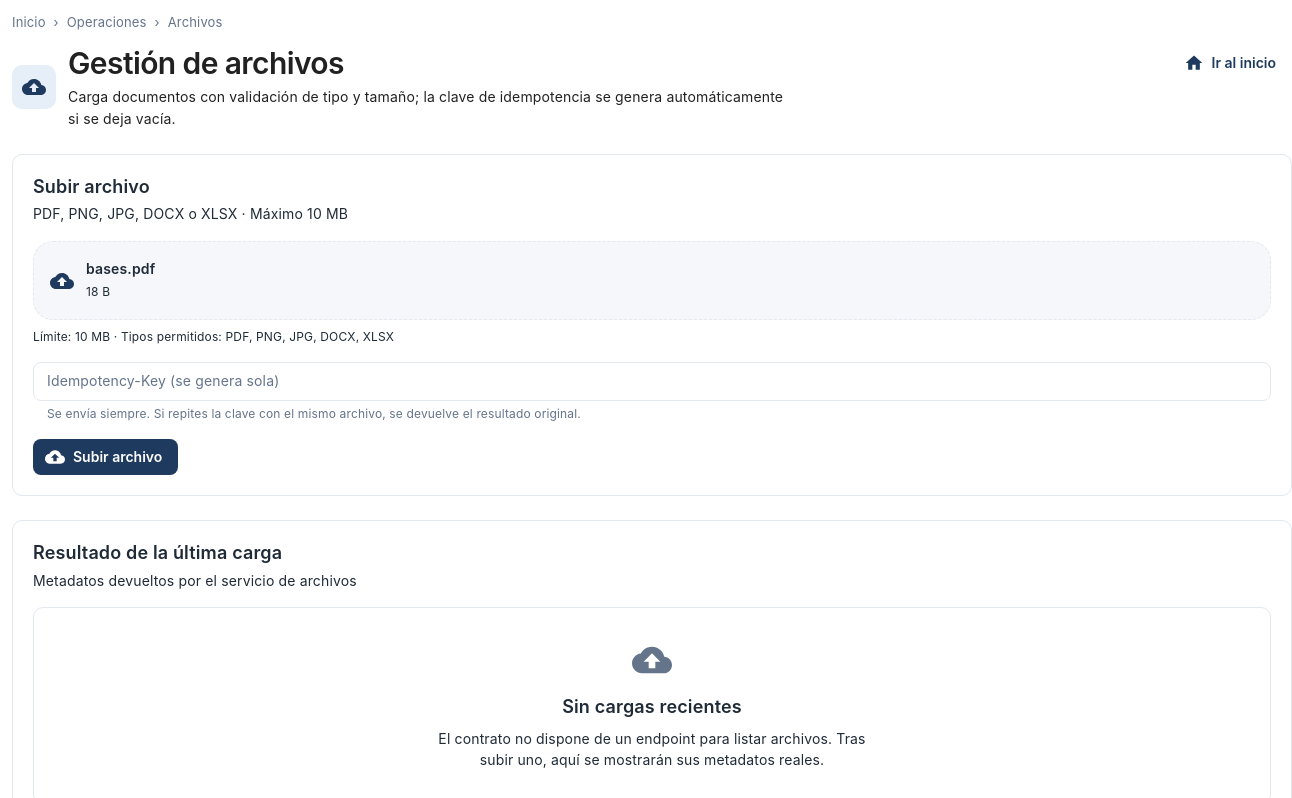
Scenario: Subida de archivos › muestra el error del servicio cuando la respuesta no es 201
Earlier steps of the test are not shown.
Click the button "Subir archivo": [106, 457] box left=33, top=439, right=178, bottom=475
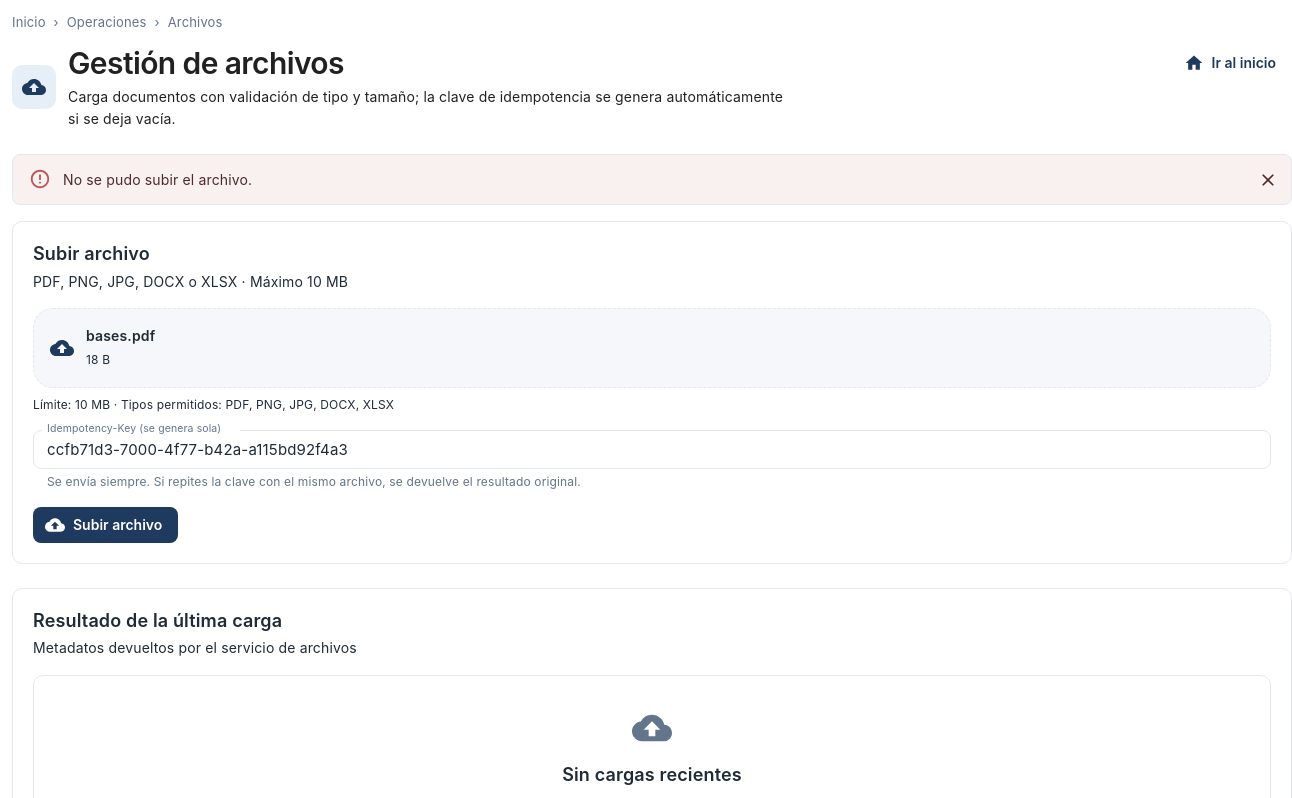
expect the message reads "No se pudo subir el archivo.": met, box left=63, top=171, right=252, bottom=188
